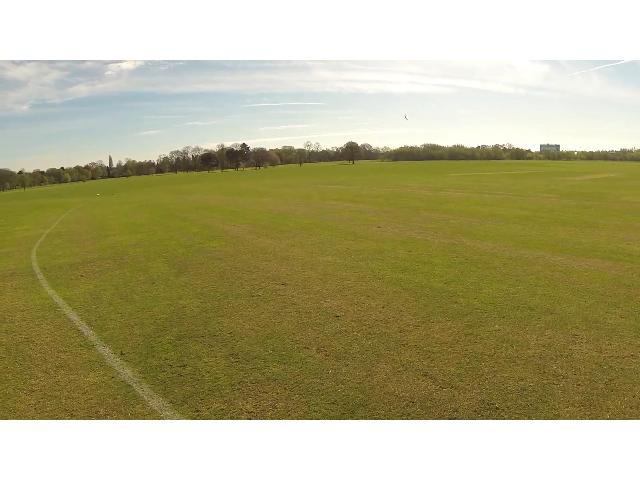Anti-Drone: (402, 110, 414, 124)
